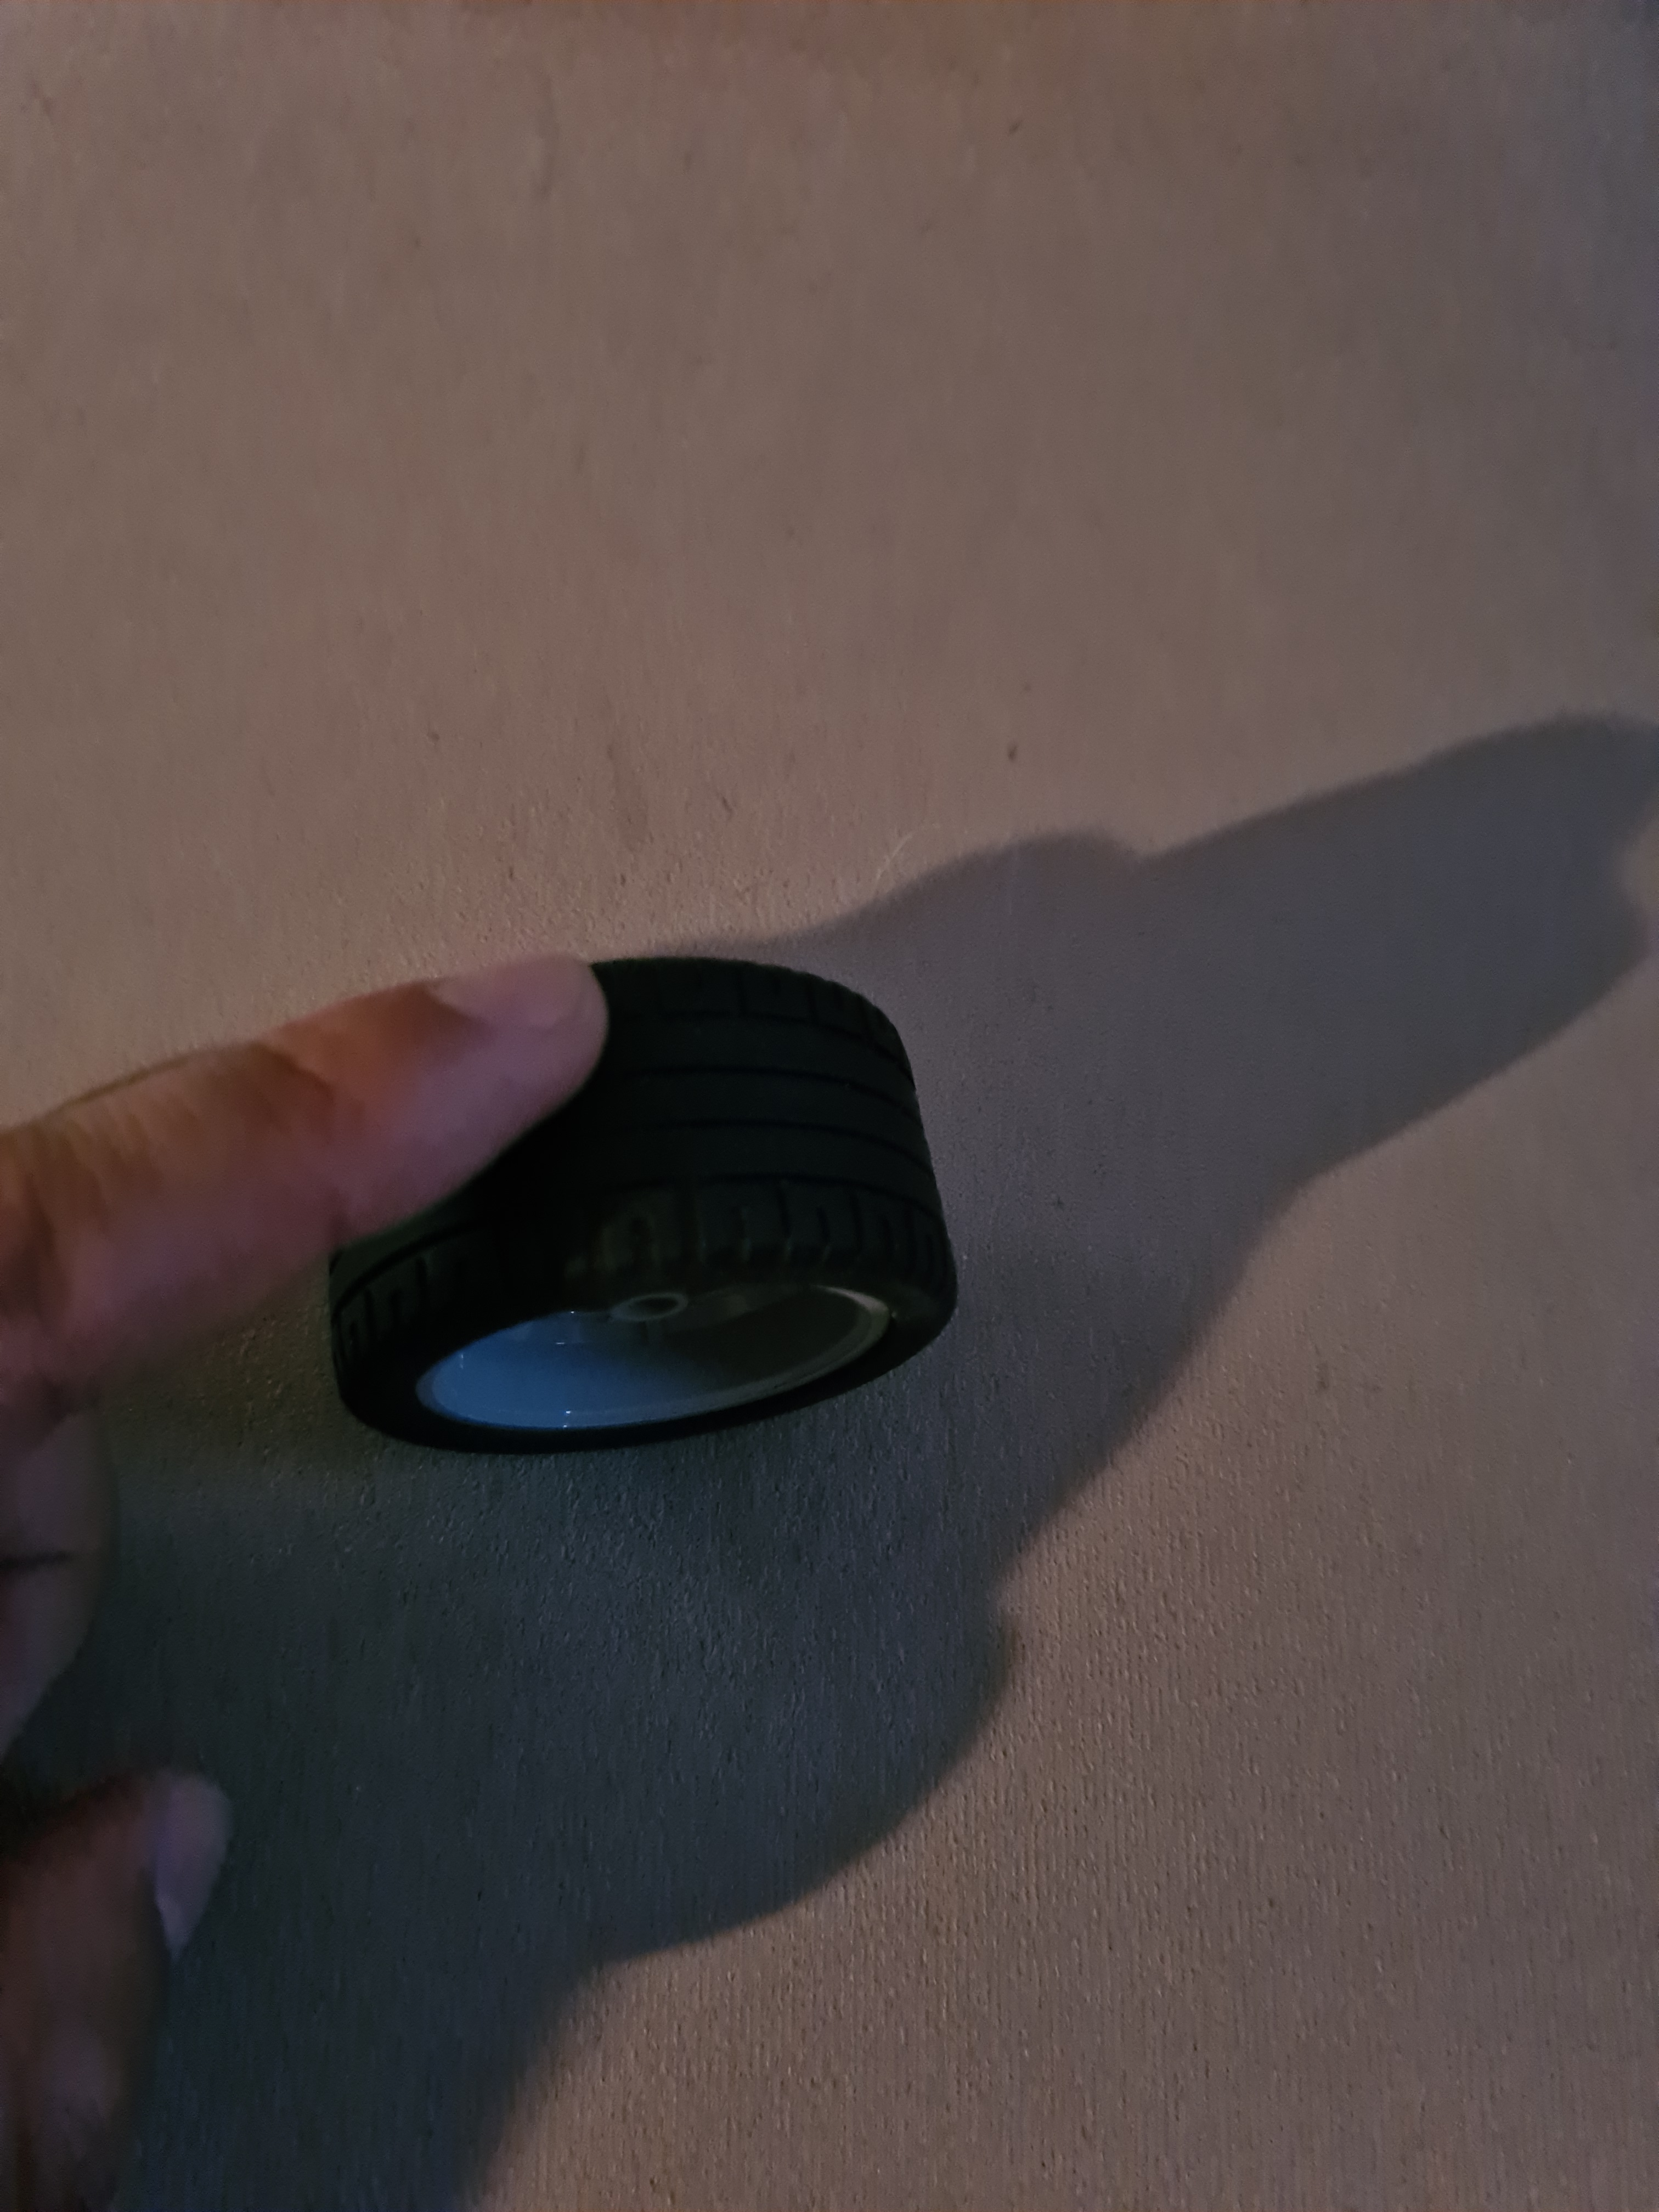Rad: (286, 930, 985, 1480)
